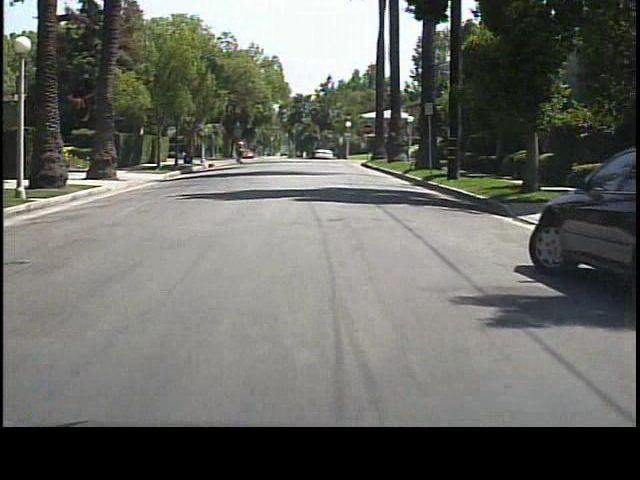person: (233, 134, 249, 166)
